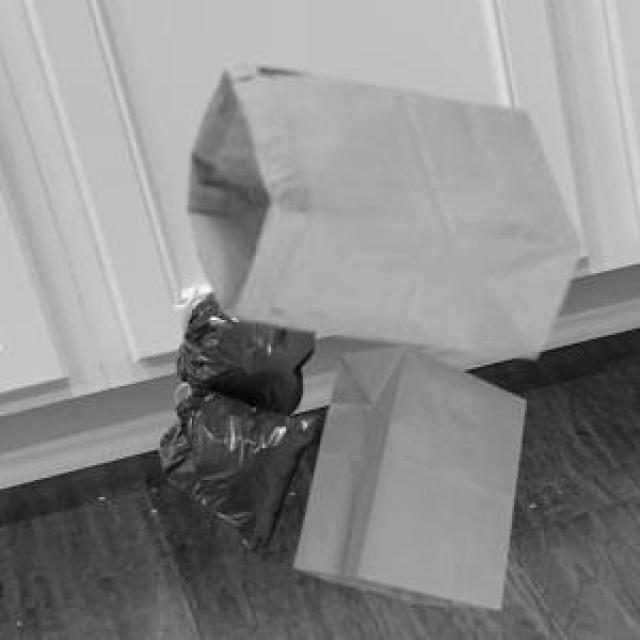miscellaneous trash: (156, 284, 316, 557)
paper: (184, 62, 576, 354), (290, 341, 521, 606)
